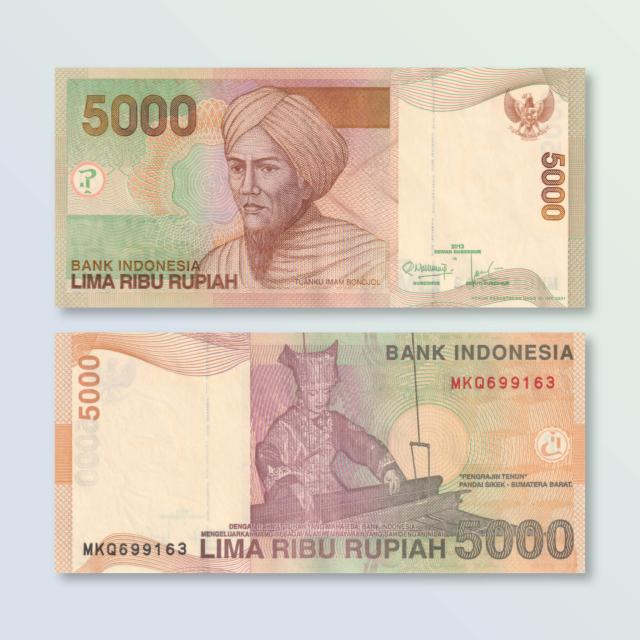lima ribu rupiah: (56, 331, 584, 575), (56, 68, 586, 307)
